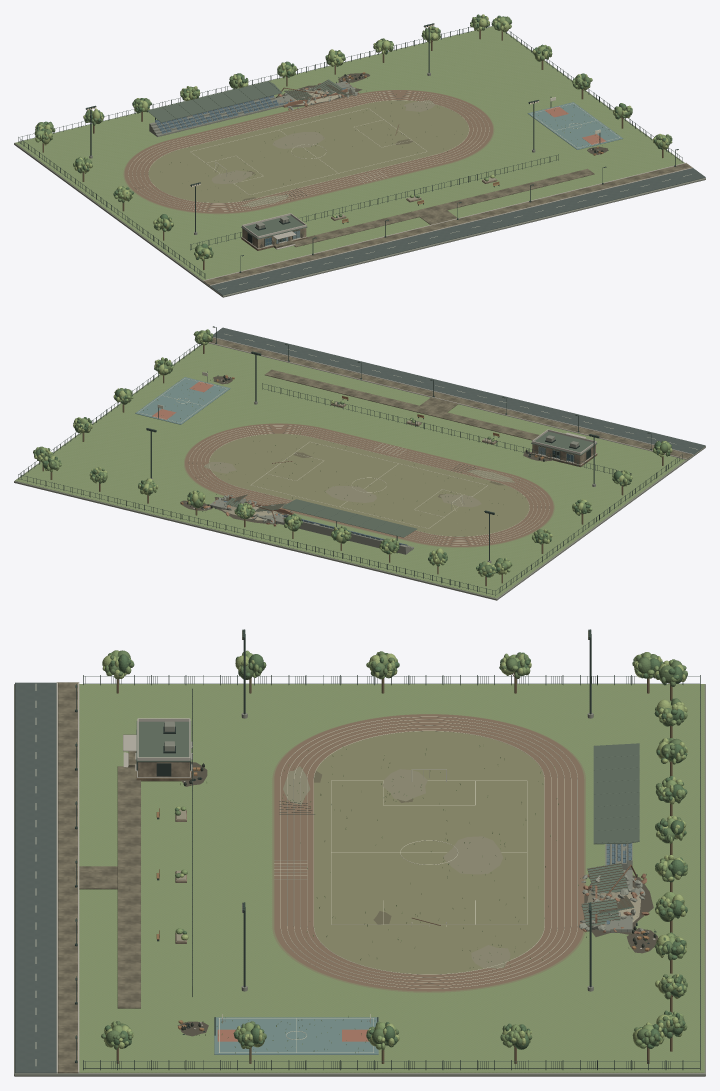
File: athletics-abandoned.glb
3 renders of one model, top to bottom at view 1: azimuth 30°, elevation 25°; view 2: azimuth 150°, elevation 25°; view 3: azimuth 270°, elevation 25°, orthographic. The views are drawn at different scales.
Parts seen in each view (by area): view 1: 材质批次_grass, 材质批次_athletics_playing_turf, 材质批次_athletics_ochre_track, 材质批次_asphalt, 材质批次_plaza_paving, 材质批次_poi_marking, 材质批次_poi_service_concrete, 材质批次_street_metal, 材质批次_sage_metal_roof, 材质批次_school_court, 材质批次_warm_cream_trim, 材质批次_leaf_2 (+6 smaller); view 2: 材质批次_grass, 材质批次_athletics_playing_turf, 材质批次_athletics_ochre_track, 材质批次_asphalt, 材质批次_plaza_paving, 材质批次_street_metal, 材质批次_poi_marking, 材质批次_poi_service_concrete, 材质批次_sage_metal_roof, 材质批次_school_court, 材质批次_warm_cream_trim, 材质批次_leaf_1 (+6 smaller); view 3: 材质批次_grass, 材质批次_athletics_playing_turf, 材质批次_athletics_ochre_track, 材质批次_asphalt, 材质批次_plaza_paving, 材质批次_sage_metal_roof, 材质批次_poi_marking, 材质批次_street_metal, 材质批次_poi_service_concrete, 材质批次_school_court, 材质批次_leaf_1, 材质批次_abandoned_dry_ground (+8 smaller).
Part boxes in pixels (bbox=[...]): 材质批次_grass: bbox=[15, 26, 684, 280]; 材质批次_athletics_playing_turf: bbox=[123, 90, 494, 214]; 材质批次_athletics_ochre_track: bbox=[124, 90, 492, 213]; 材质批次_asphalt: bbox=[210, 168, 705, 295]; 材质批次_plaza_paving: bbox=[203, 163, 692, 285]; 材质批次_poi_marking: bbox=[128, 91, 691, 289]; 材质批次_poi_service_concrete: bbox=[14, 33, 705, 297]; 材质批次_street_metal: bbox=[18, 21, 682, 278]; 材质批次_sage_metal_roof: bbox=[147, 79, 350, 239]; 材质批次_school_court: bbox=[527, 102, 623, 149]; 材质批次_warm_cream_trim: bbox=[203, 75, 692, 285]; 材质批次_leaf_2: bbox=[34, 14, 669, 259]; 材质批次_grass: bbox=[15, 343, 685, 598]; 材质批次_athletics_playing_turf: bbox=[184, 423, 554, 547]; 材质批次_athletics_ochre_track: bbox=[185, 423, 553, 546]; 材质批次_asphalt: bbox=[213, 327, 705, 454]; 材质批次_plaza_paving: bbox=[209, 338, 692, 459]; 材质批次_street_metal: bbox=[18, 326, 682, 595]; 材质批次_poi_marking: bbox=[138, 334, 697, 545]; 材质批次_poi_service_concrete: bbox=[14, 345, 705, 600]; 材质批次_sage_metal_roof: bbox=[226, 431, 597, 537]; 材质批次_school_court: bbox=[135, 377, 230, 424]; 材质批次_warm_cream_trim: bbox=[186, 337, 693, 509]; 材质批次_leaf_1: bbox=[33, 330, 669, 576]; 材质批次_grass: bbox=[79, 684, 704, 1072]; 材质批次_athletics_playing_turf: bbox=[272, 714, 585, 992]; 材质批次_athletics_ochre_track: bbox=[274, 714, 584, 991]; 材质批次_asphalt: bbox=[15, 682, 56, 1073]; 材质批次_plaza_paving: bbox=[58, 682, 140, 1073]; 材质批次_sage_metal_roof: bbox=[136, 721, 639, 925]; 材质批次_poi_marking: bbox=[35, 684, 577, 1065]; 材质批次_street_metal: bbox=[75, 629, 700, 1070]; 材质批次_poi_service_concrete: bbox=[14, 684, 705, 1076]; 材质批次_school_court: bbox=[214, 1017, 378, 1054]; 材质批次_leaf_1: bbox=[101, 650, 687, 1052]; 材质批次_abandoned_dry_ground: bbox=[283, 766, 510, 968].
Bounding box in the file's own units: 160 × 17.03 × 120.
34 materials, 5 textured.
